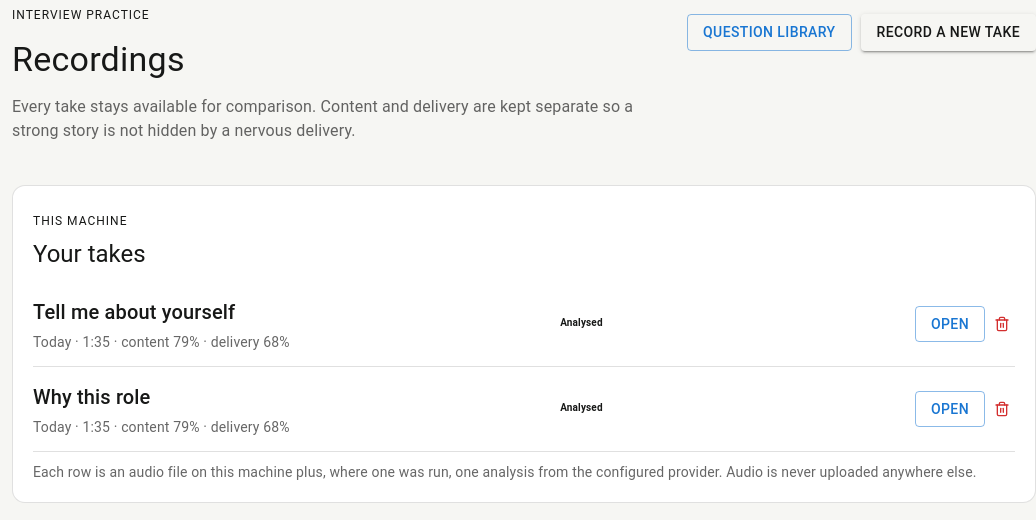
Test: RecordingsPage › deletes a take, and says so when the delete did not happen
Click the button named "Delete Tell me about yourself": (1002, 324) [989,311,1015,337]
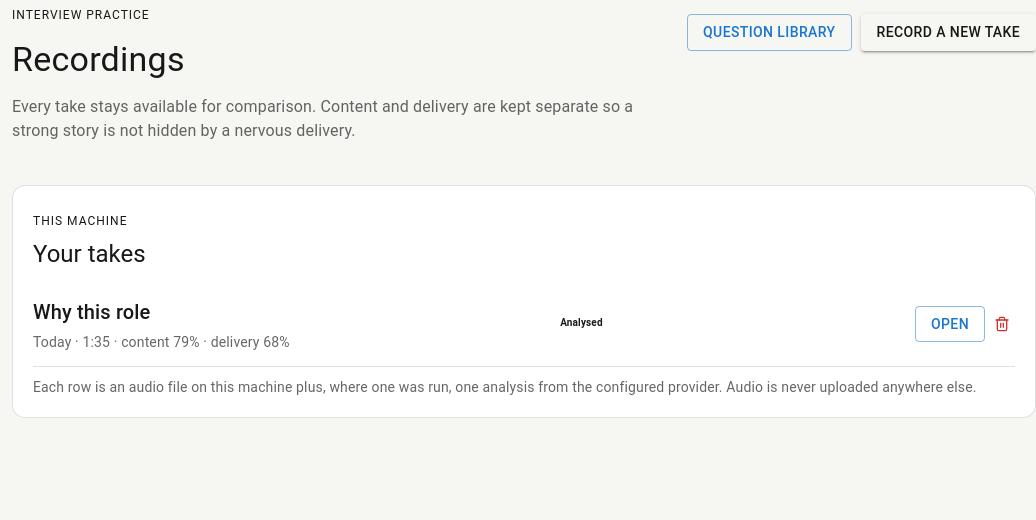
Expected: the link "Why this role" is shown, [33,300,150,324]
Now the link "Tell me about yourself" is gone
Click the button named "Delete Why this role": (1002, 324) [989,311,1015,337]
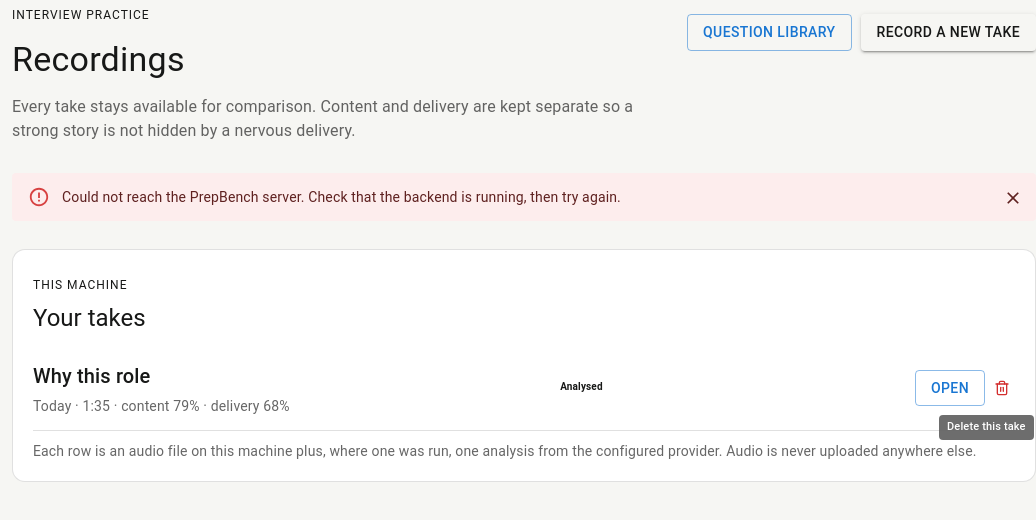
Expected: the link "Why this role" is shown, [33,364,150,388]
Now the message shows "Could not", box [62,189,621,205]
